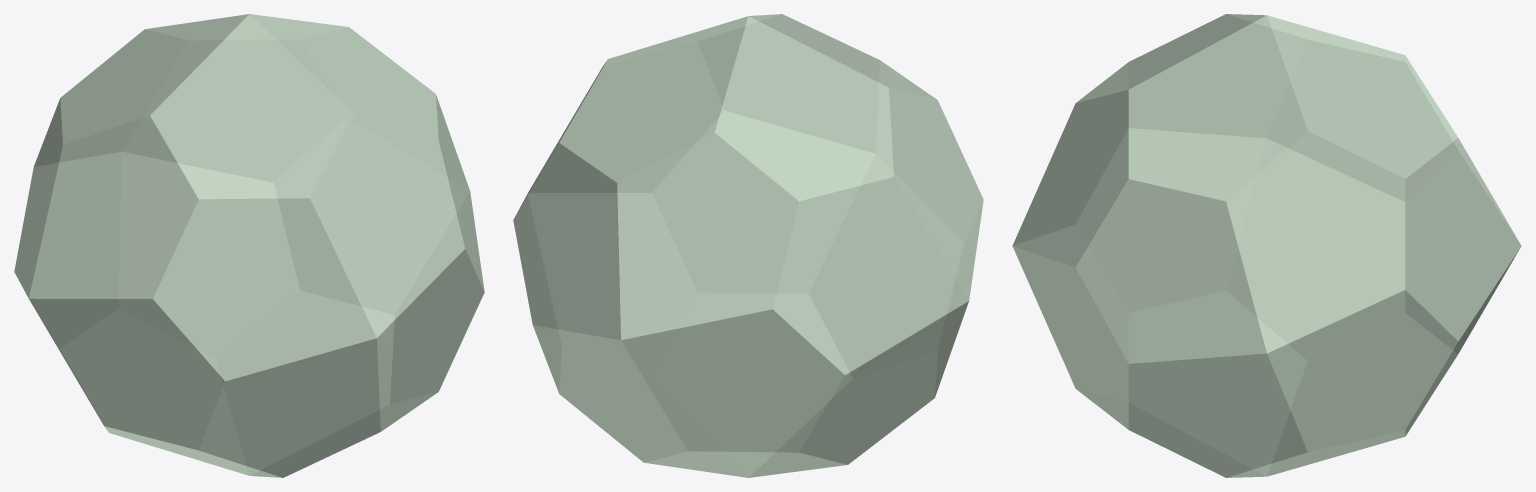
Rendered from PentagonalIcositetrahedron1.obj.
3 views of the same model, side by side, from view 1: azimuth 30°, elevation 25°; view 2: azimuth 150°, elevation 25°; view 3: azimuth 270°, elevation 25° (orthographic).
Bounding box in the file's own units: 2.72 × 2.72 × 2.72.
